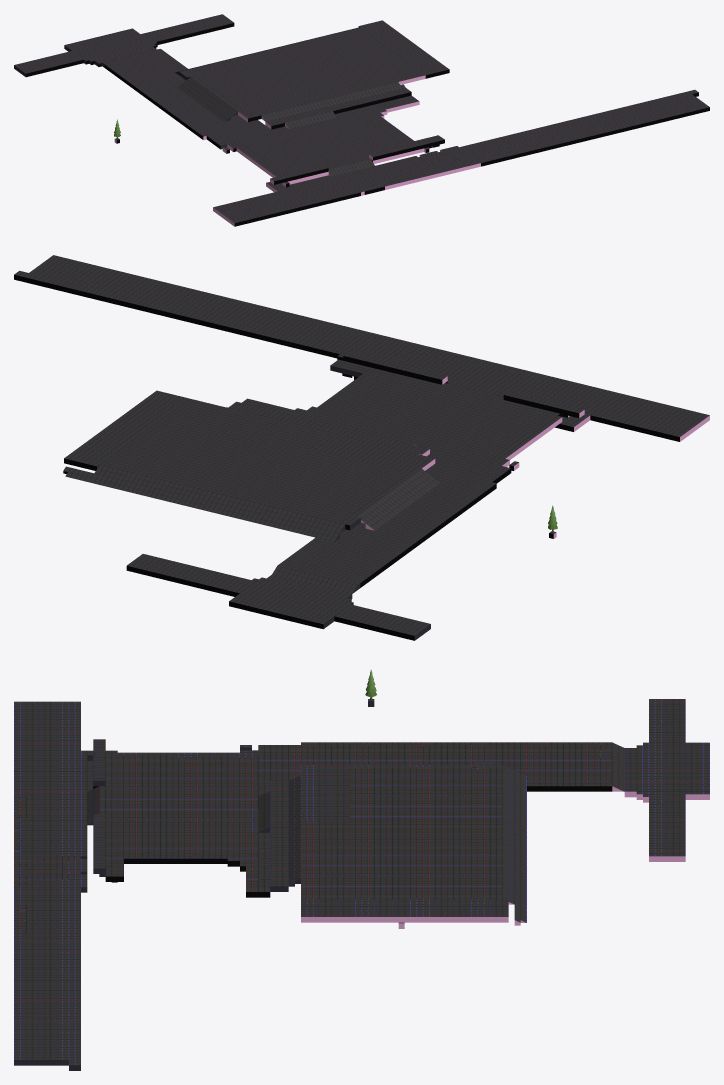
The model's file is CC_area1.glb.
3 renders of one model, top to bottom at view 1: azimuth 30°, elevation 25°; view 2: azimuth 150°, elevation 25°; view 3: azimuth 270°, elevation 25°, orthographic. The views are drawn at different scales.
Size of the model in its own units: 142 by 7.62 by 114.
3 materials, 3 textured.
